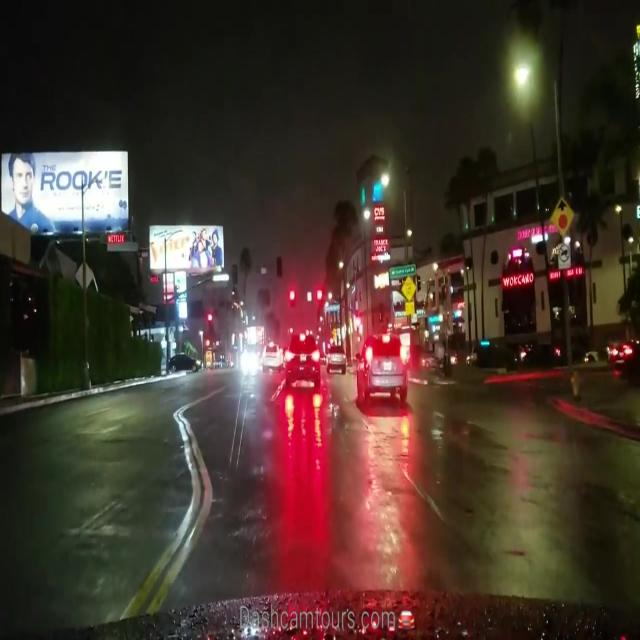Car: (355, 332, 406, 402), (283, 329, 320, 380)
